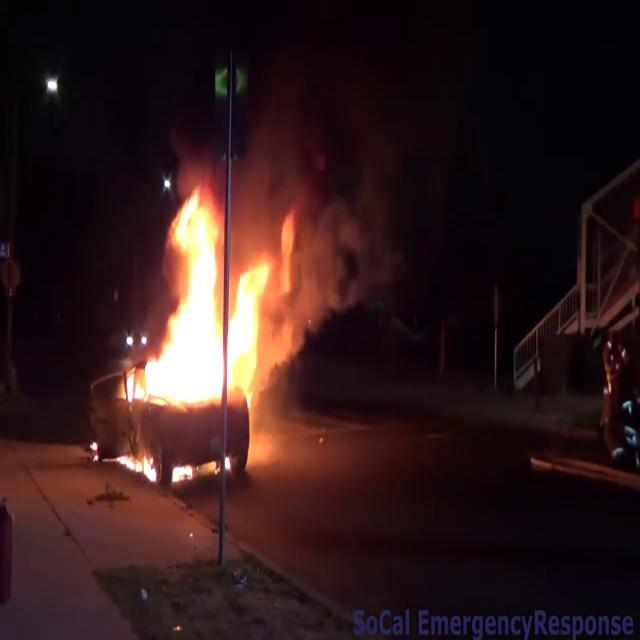Fire: (120, 179, 284, 409)
Smoke: (218, 14, 448, 284)
